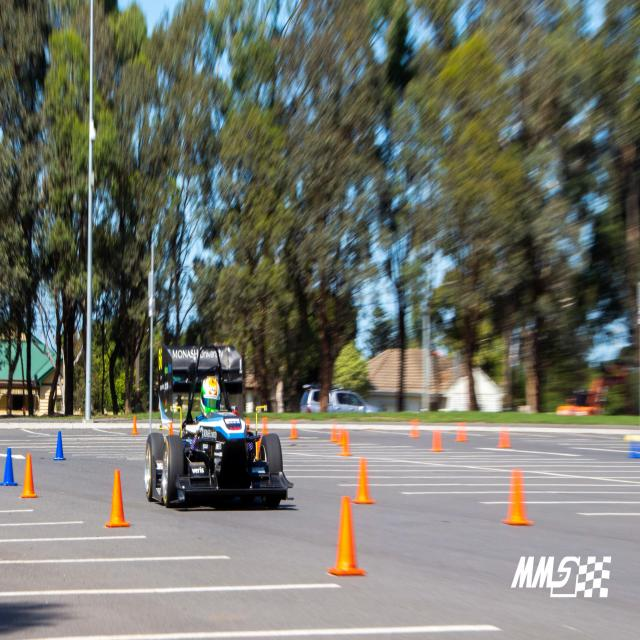blue_cone: (1, 448, 18, 486), (54, 431, 64, 461), (628, 438, 640, 459)
